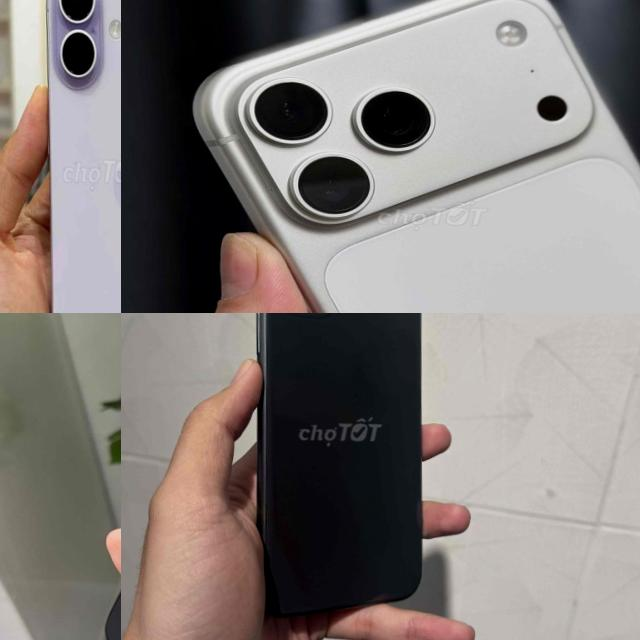gen_11: (236, 313, 457, 619)
gen_17: (177, 0, 640, 313), (34, 0, 121, 313)
